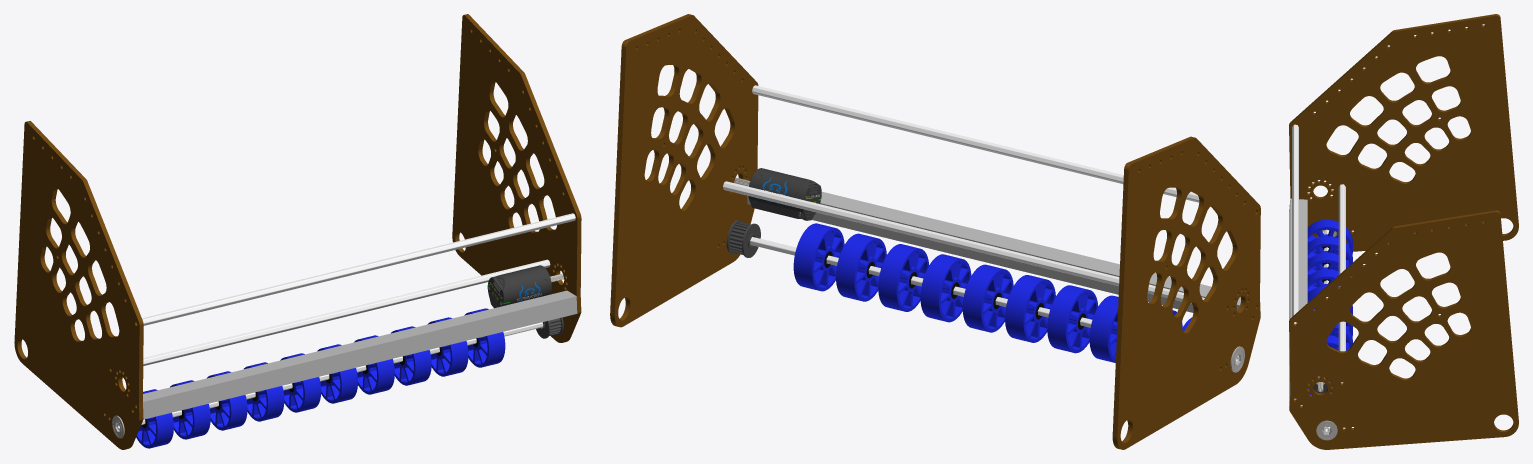
The picture shows the model from 3 angles, left to right: view 1: azimuth 30°, elevation 25°; view 2: azimuth 150°, elevation 25°; view 3: azimuth 270°, elevation 25°; orthographic projection. The views are drawn at different scales.
Parts seen in each view (by area): view 1: Intake Drop Plates (×2), Beater Bar, wheel_compliant_3in_.5hex (×10), Intake Brace Hex (×2), Kraken X44, Intake Dead Hex; view 2: Intake Drop Plates (×2), wheel_compliant_3in_.5hex (×8), Intake Brace Hex (×2), Beater Bar, Kraken X44, Intake Dead Hex, TTB-0126 - 24T Pulley Half Inch Hex; view 3: Intake Drop Plates (×2), wheel_compliant_3in_.5hex (×4), Intake Brace Hex (×2), Beater Bar, bearing_.5hex_flanged.
Boxes of the visible parts, x1=… form: Intake Drop Plates (×2): x1=14, y1=14, x2=581, y2=449; Beater Bar: x1=143, y1=290, x2=577, y2=419; wheel_compliant_3in_.5hex (×10): x1=136, y1=308, x2=505, y2=448; Intake Brace Hex (×2): x1=142, y1=213, x2=575, y2=365; Kraken X44: x1=488, y1=265, x2=563, y2=304; Intake Dead Hex: x1=117, y1=322, x2=543, y2=430; Intake Drop Plates (×2): x1=610, y1=14, x2=1260, y2=449; wheel_compliant_3in_.5hex (×8): x1=793, y1=223, x2=1118, y2=362; Intake Brace Hex (×2): x1=723, y1=85, x2=1204, y2=303; Beater Bar: x1=747, y1=191, x2=1240, y2=312; Kraken X44: x1=734, y1=168, x2=821, y2=218; Intake Dead Hex: x1=750, y1=237, x2=1239, y2=363; TTB-0126 - 24T Pulley Half Inch Hex: x1=726, y1=220, x2=760, y2=257; Intake Drop Plates (×2): x1=1289, y1=14, x2=1518, y2=449; wheel_compliant_3in_.5hex (×4): x1=1307, y1=219, x2=1352, y2=292; Intake Brace Hex (×2): x1=1292, y1=124, x2=1345, y2=383; Beater Bar: x1=1289, y1=198, x2=1307, y2=406; bearing_.5hex_flanged: x1=1316, y1=420, x2=1337, y2=440.
Bounding box in the file's own units: 0.693 × 0.39 × 0.3363.
